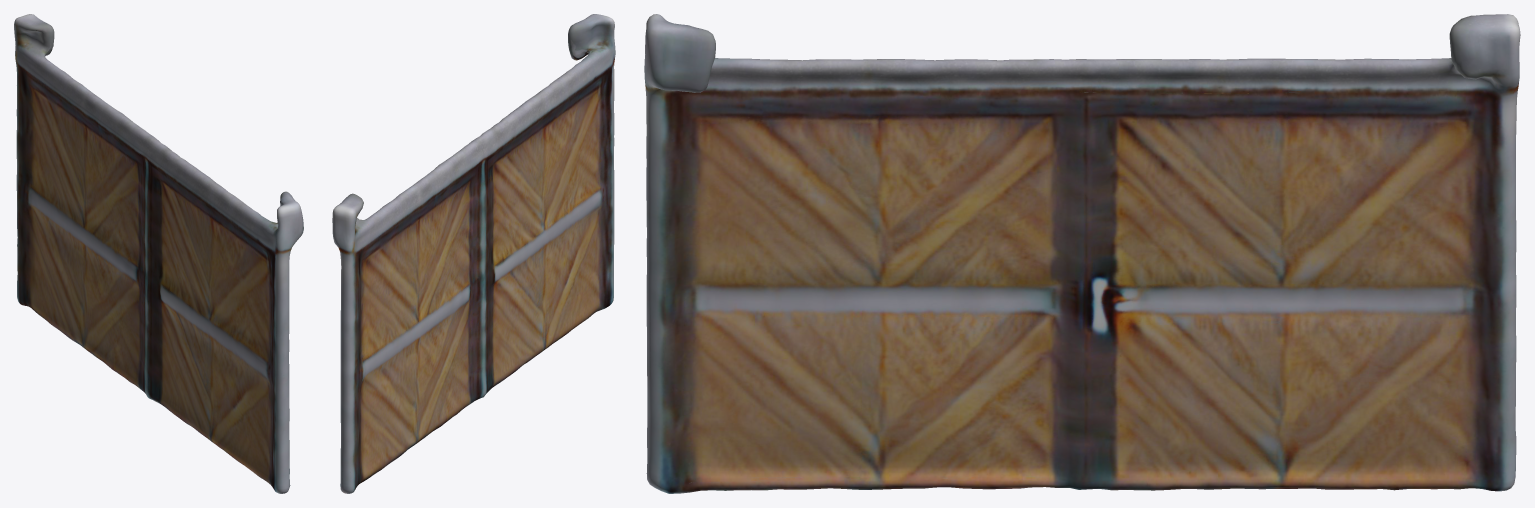
The model's file is 77eb499835e3_horisontal_sliding_.fbx.
3 renders of one model, left to right at view 1: azimuth 30°, elevation 25°; view 2: azimuth 150°, elevation 25°; view 3: azimuth 270°, elevation 25°, orthographic. The views are drawn at different scales.
Parts seen in each view (by area): view 1: mesh; view 2: mesh; view 3: mesh.
Part boxes in pixels (x1=…): mesh: x1=14, y1=14, x2=303, y2=493; mesh: x1=332, y1=14, x2=615, y2=493; mesh: x1=644, y1=14, x2=1520, y2=493.
Bounding box in the file's own units: 6.87 × 59.88 × 99.96.
